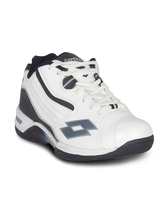shoes: (12, 52, 159, 166)
